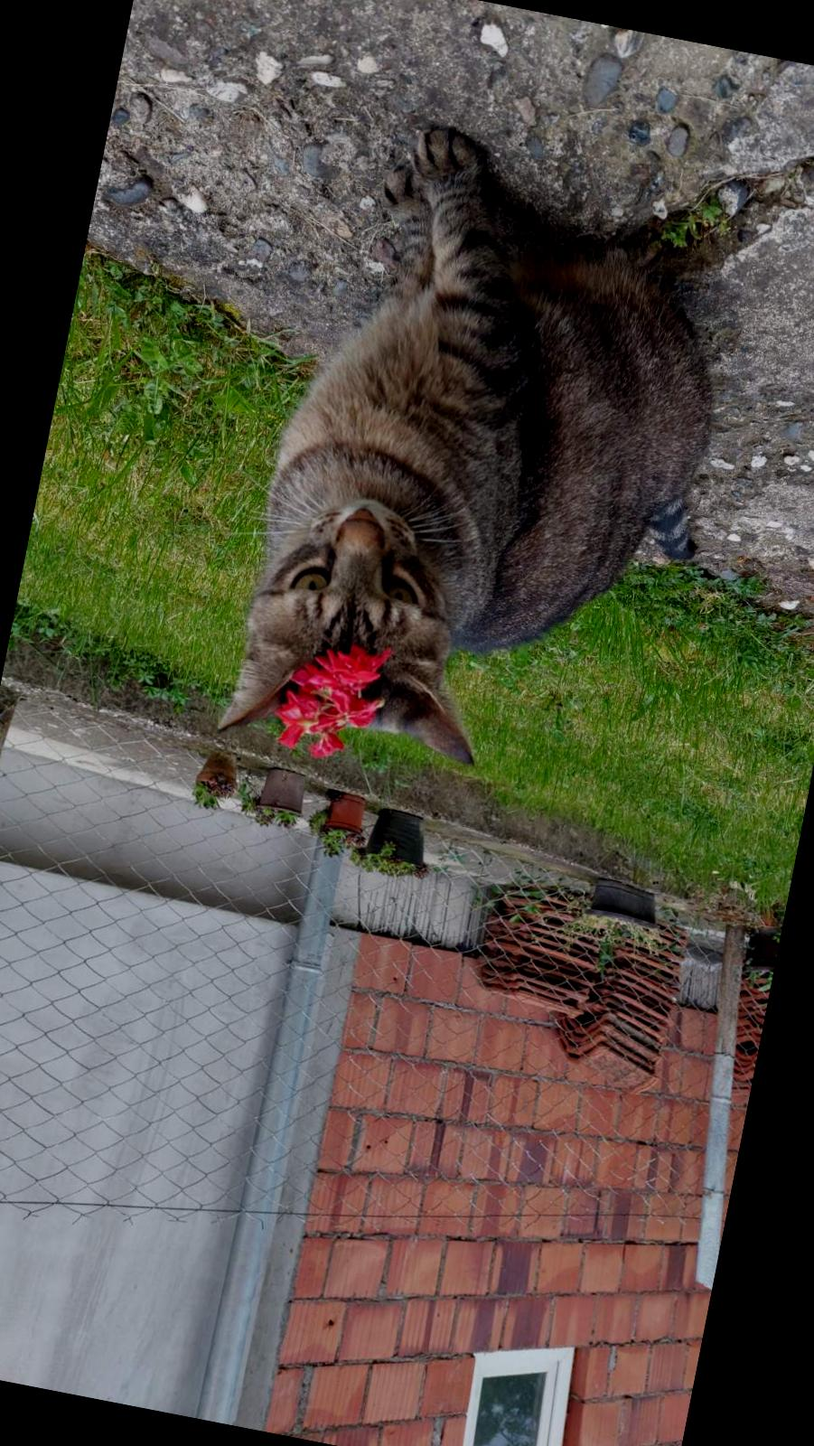macka: (212, 106, 766, 817)
